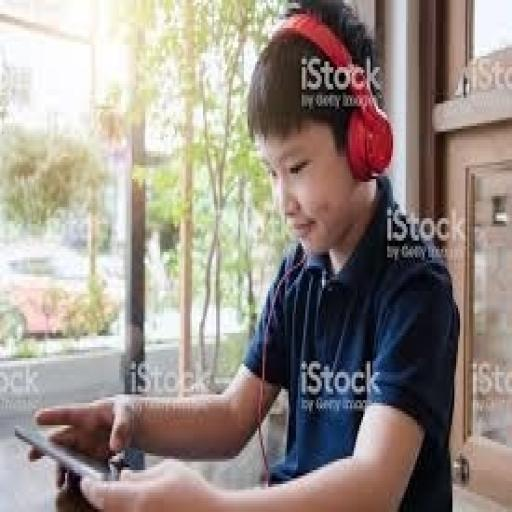listening_to_music: (26, 0, 462, 509)
